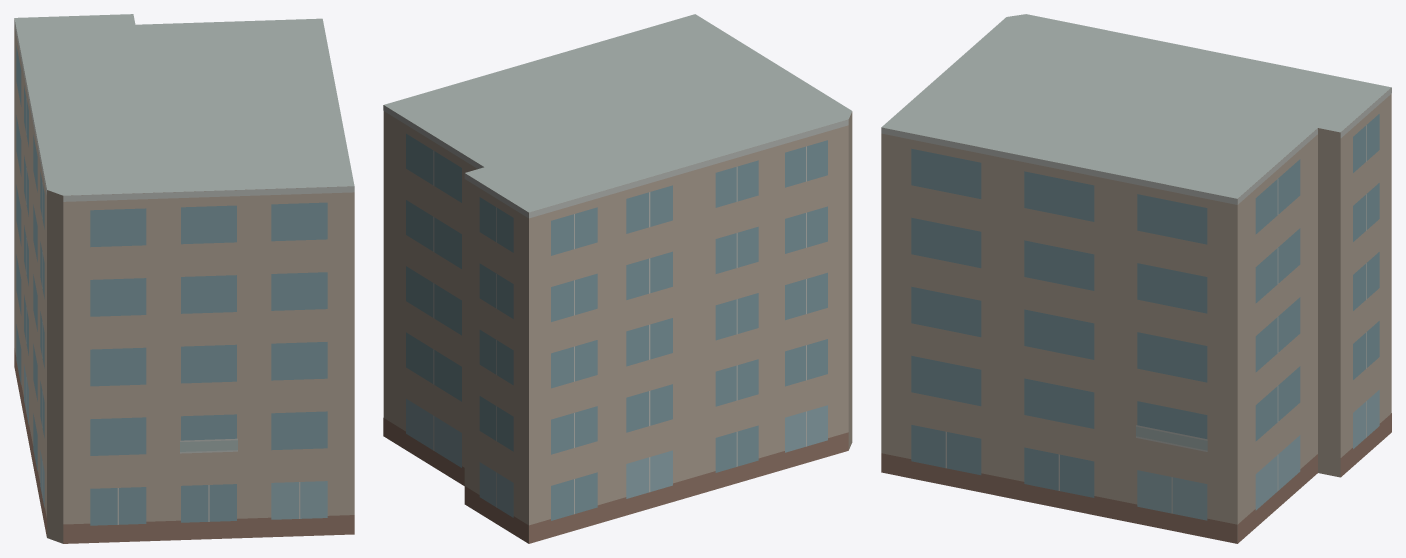
Rendered from survey-upis-32996313.glb.
The picture shows the model from 3 angles, left to right: view 1: azimuth 30°, elevation 25°; view 2: azimuth 150°, elevation 25°; view 3: azimuth 270°, elevation 25°; orthographic projection. The views are drawn at different scales.
Visible parts, largest first — view 1: survey-upis-32996313.tmp; view 2: survey-upis-32996313.tmp; view 3: survey-upis-32996313.tmp.
Boxes of the visible parts, <box> form: survey-upis-32996313.tmp: <box>14,14,354,543</box>; survey-upis-32996313.tmp: <box>383,14,852,543</box>; survey-upis-32996313.tmp: <box>881,14,1391,543</box>.
Size of the model in its own units: 15.75 by 13.7 by 18.38.
